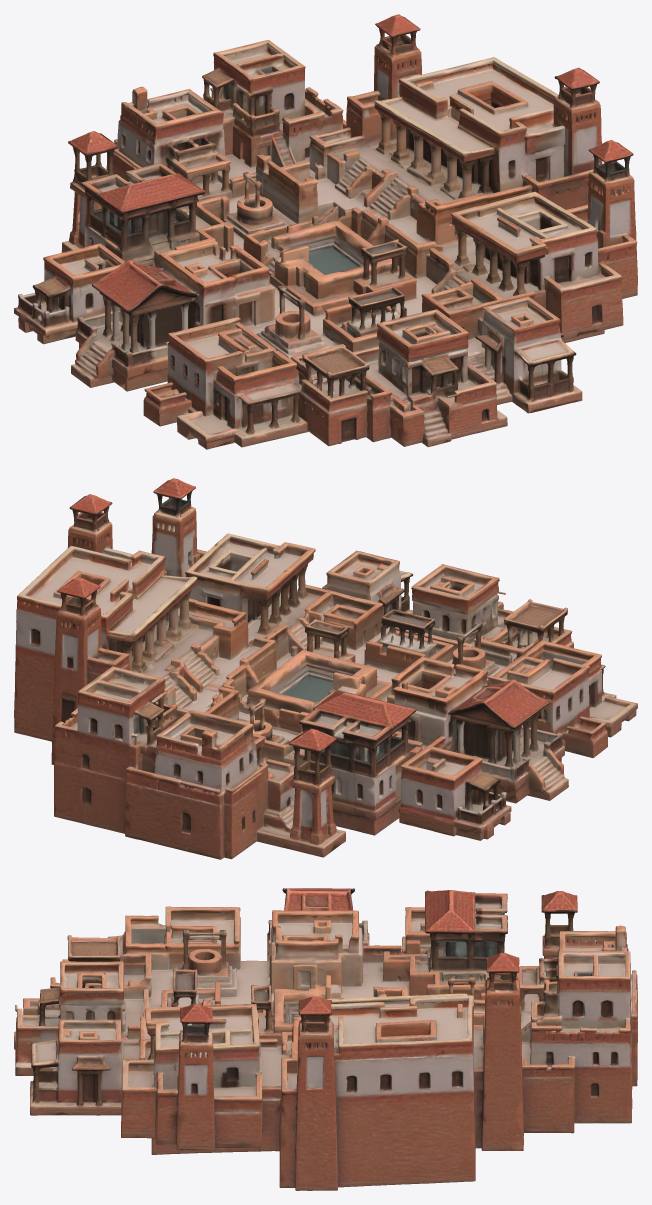
The model's file is Ancient Town (South Asian).fbx.
3 views of the same model, one above another, from view 1: azimuth 30°, elevation 25°; view 2: azimuth 150°, elevation 25°; view 3: azimuth 270°, elevation 25° (orthographic). The views are drawn at different scales.
Parts seen in each view (by area): view 1: tripo_node_47935225; view 2: tripo_node_47935225; view 3: tripo_node_47935225.
Boxes of the visible parts, x1,y1,x2,y2 form: tripo_node_47935225: (14, 14, 637, 449); tripo_node_47935225: (14, 478, 637, 859); tripo_node_47935225: (14, 888, 637, 1190).
Size of the model in its own units: 0.9281 by 0.3417 by 1.
